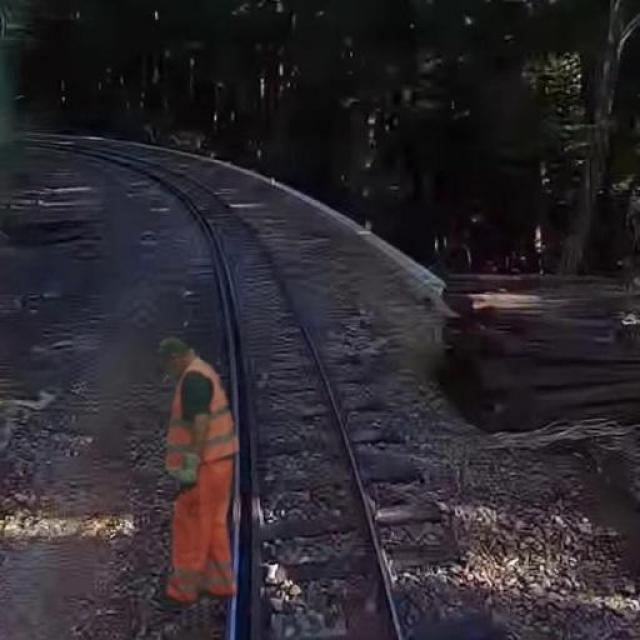people: (138, 334, 247, 614)
